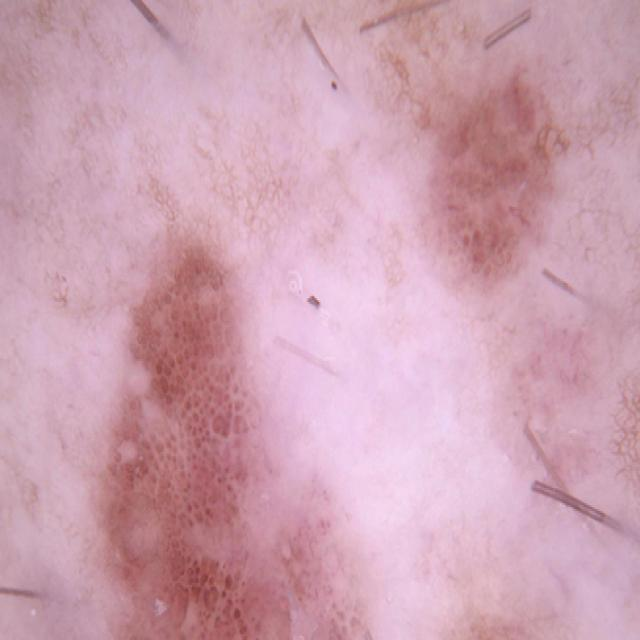Carcinoma: (95, 237, 383, 640), (417, 54, 602, 303)
